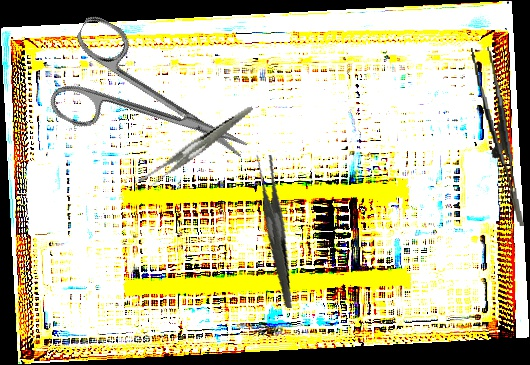Dressing Forceps: (233, 152, 315, 309), (127, 106, 267, 192)
Iris Scissors: (39, 12, 268, 201)
Tissue Forceps: (471, 44, 524, 230)
